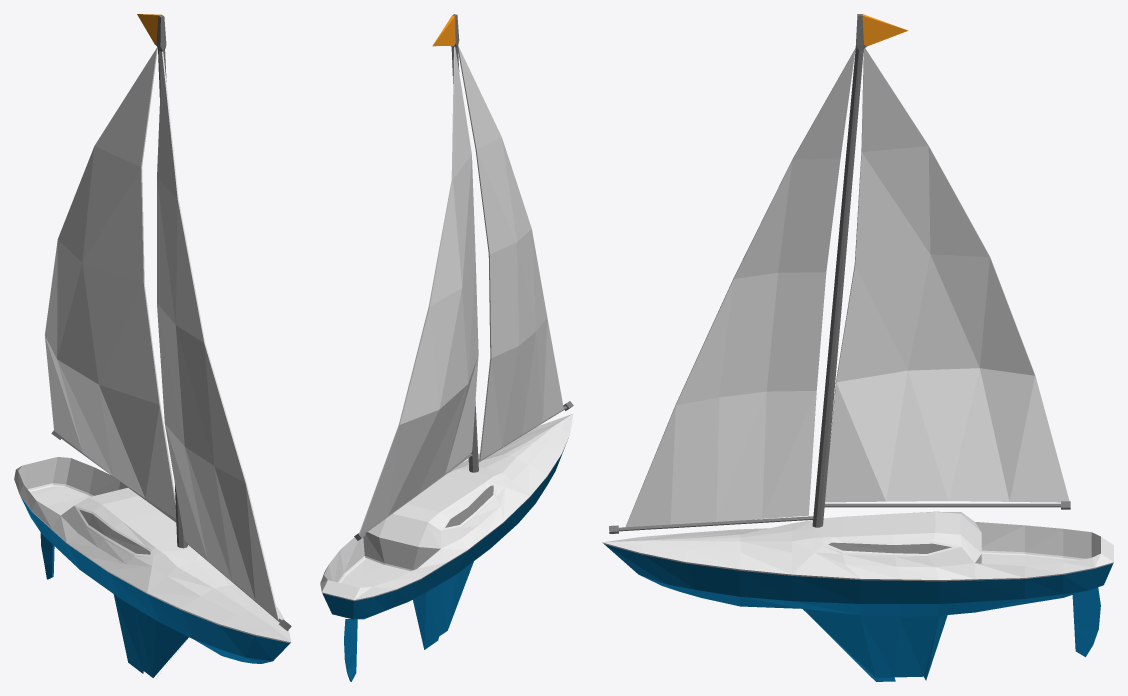
File: 7AOnch2wREC.glb
3 views of the same model, side by side, from view 1: azimuth 30°, elevation 25°; view 2: azimuth 150°, elevation 25°; view 3: azimuth 270°, elevation 25° (orthographic). The views are drawn at different scales.
Parts seen in each view (by area): view 1: Sailboat; view 2: Sailboat; view 3: Sailboat.
Boxes of the visible parts, x1,y1,x2,y2 form: Sailboat: [14, 14, 291, 677]; Sailboat: [320, 14, 573, 681]; Sailboat: [602, 14, 1113, 681].
Size of the model in its own units: 0.17 by 1 by 0.6955.
1 material, 1 textured.
